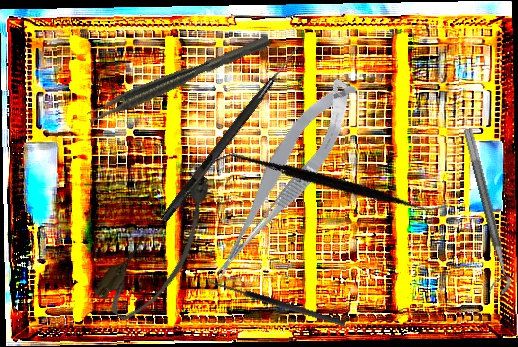Cannula: (89, 165, 236, 330)
Fixation Ring: (448, 127, 515, 298)
Hook Surgical: (160, 42, 301, 225), (202, 277, 346, 335)
Micro Scissor: (187, 70, 377, 286)
Spatula Surgical: (209, 94, 450, 274)
Tissue Forceps: (84, 34, 274, 126)
